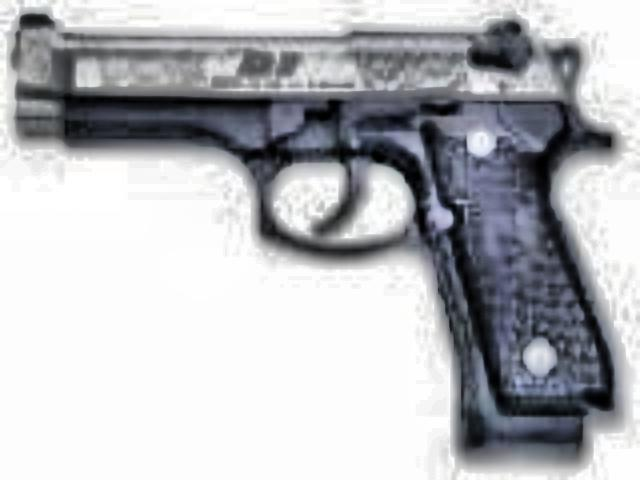pistol: (12, 0, 616, 424)
